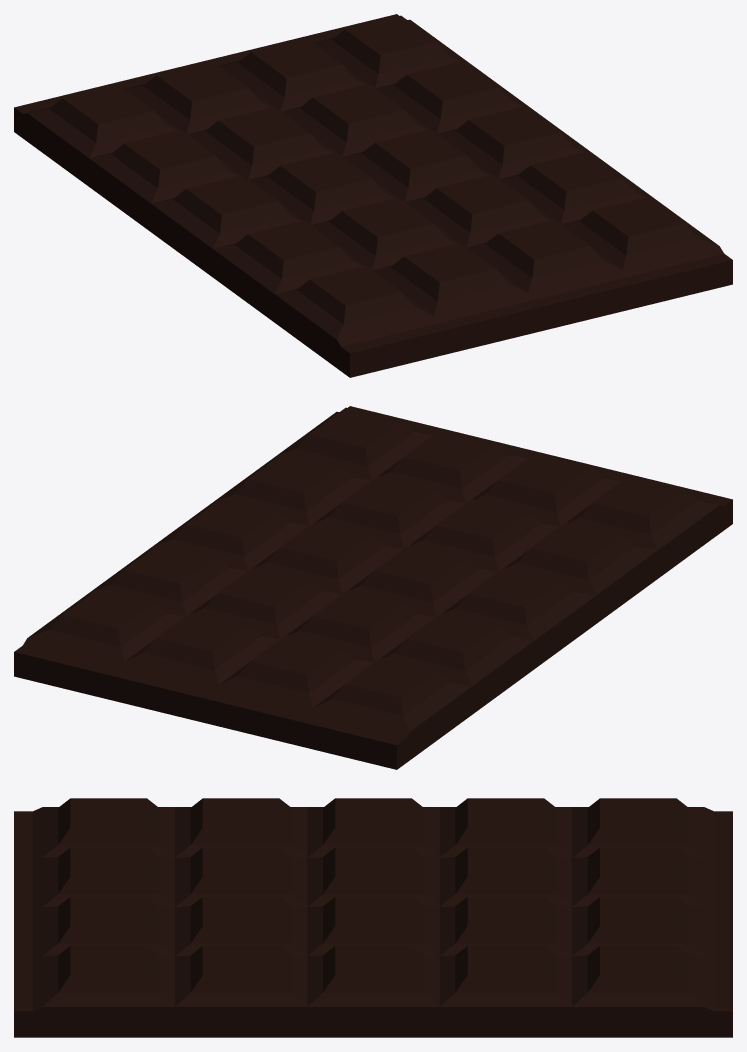
File: ChocolateBar.obj
3 renders of one model, top to bottom at view 1: azimuth 30°, elevation 25°; view 2: azimuth 150°, elevation 25°; view 3: azimuth 270°, elevation 25°, orthographic. The views are drawn at different scales.
Parts seen in each view (by area): view 1: ChocolateBar_Cube.084; view 2: ChocolateBar_Cube.084; view 3: ChocolateBar_Cube.084.
Part boxes in pixels (x1=…): ChocolateBar_Cube.084: x1=14, y1=14, x2=732, y2=377; ChocolateBar_Cube.084: x1=14, y1=406, x2=732, y2=769; ChocolateBar_Cube.084: x1=14, y1=798, x2=732, y2=1037.
Size of the model in its own units: 0.5752 by 0.0683 by 0.8742.
